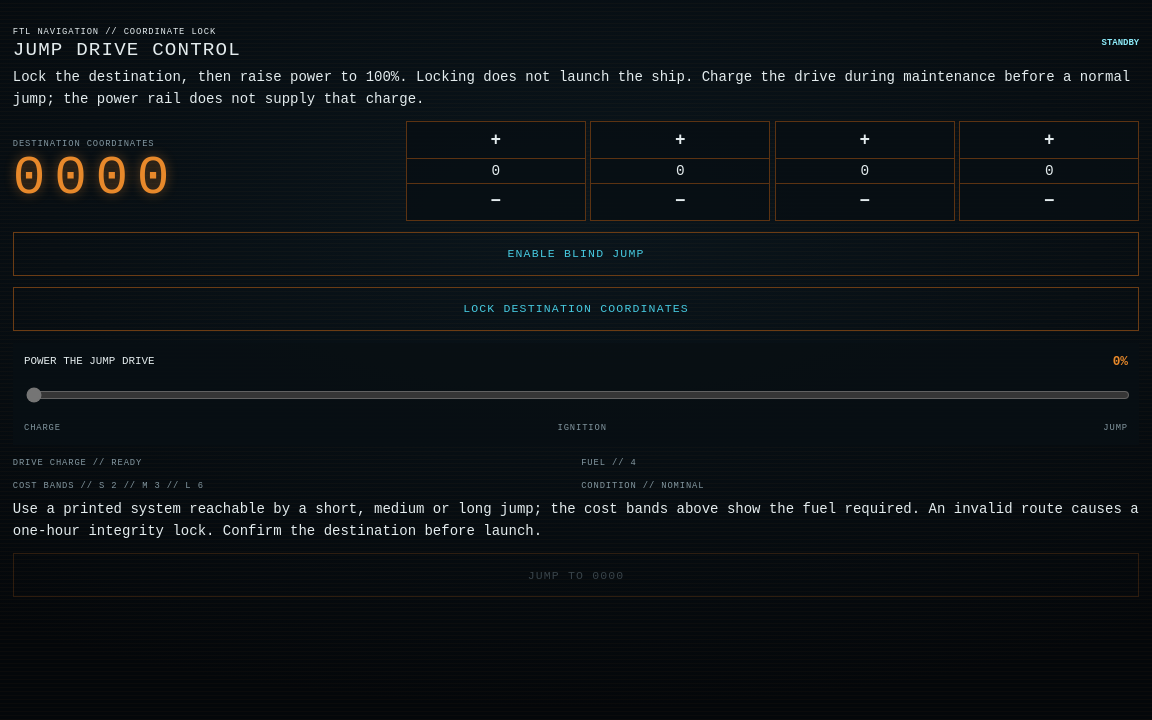
submits blind travel without a candidate and retries the same request until the server reveals arrival
The width and height of the screenshot is (1152, 720).
Step 1. Click the button "Enable blind jump" → (576, 254), box [13,232,1139,276]
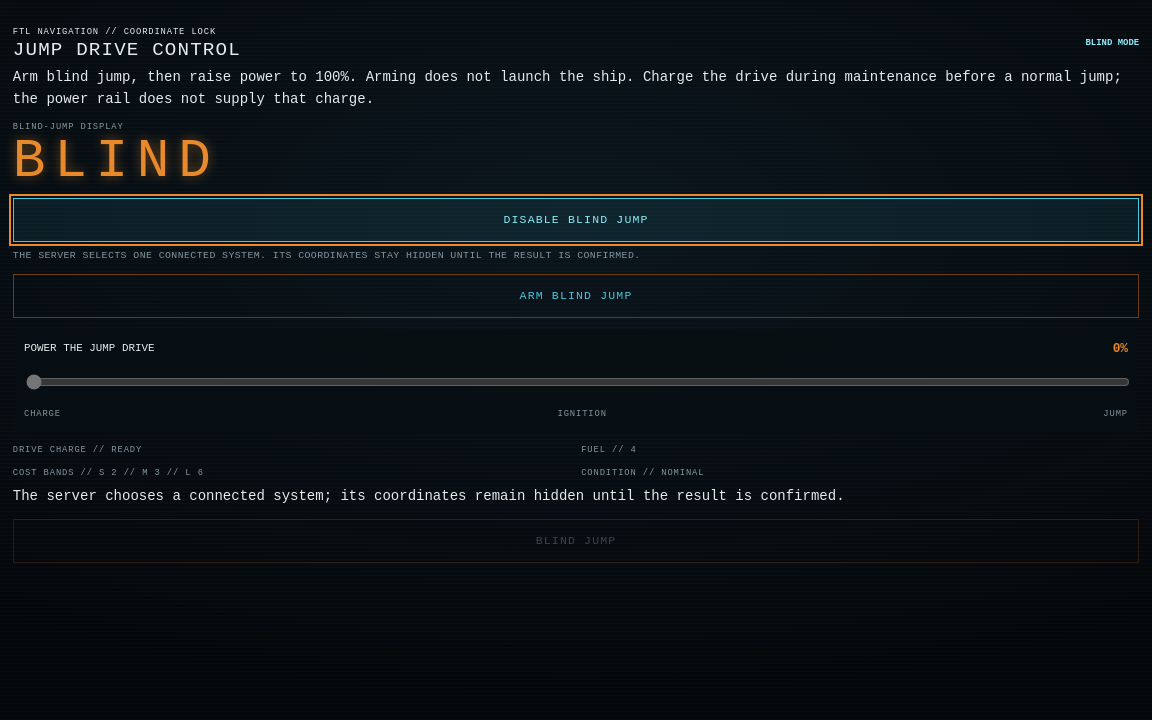
Now the element named "Blind destination hidden until server resolution" reads "BLIND", box [13,131,220,192]
Step 2. Click the button "Arm blind jump" → (576, 296), box [13,274,1139,318]
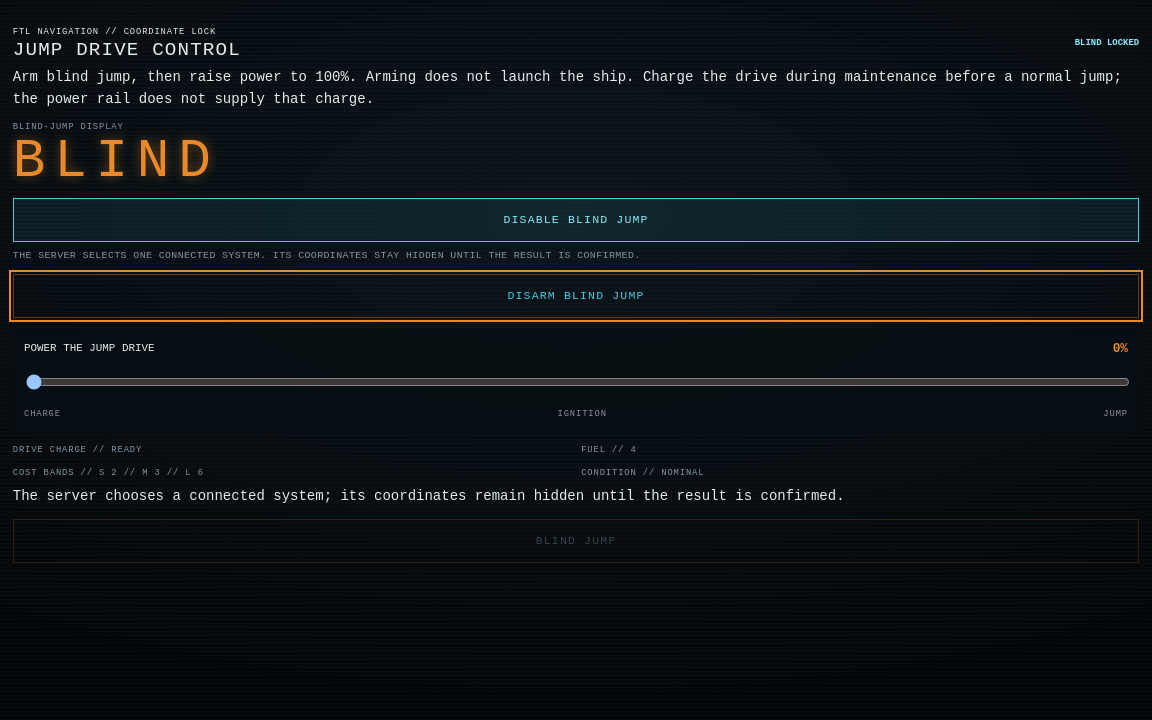
Step 3. Set the slider named "jump drive power" to "100" → (1122, 382), box [26,364,1130,400]
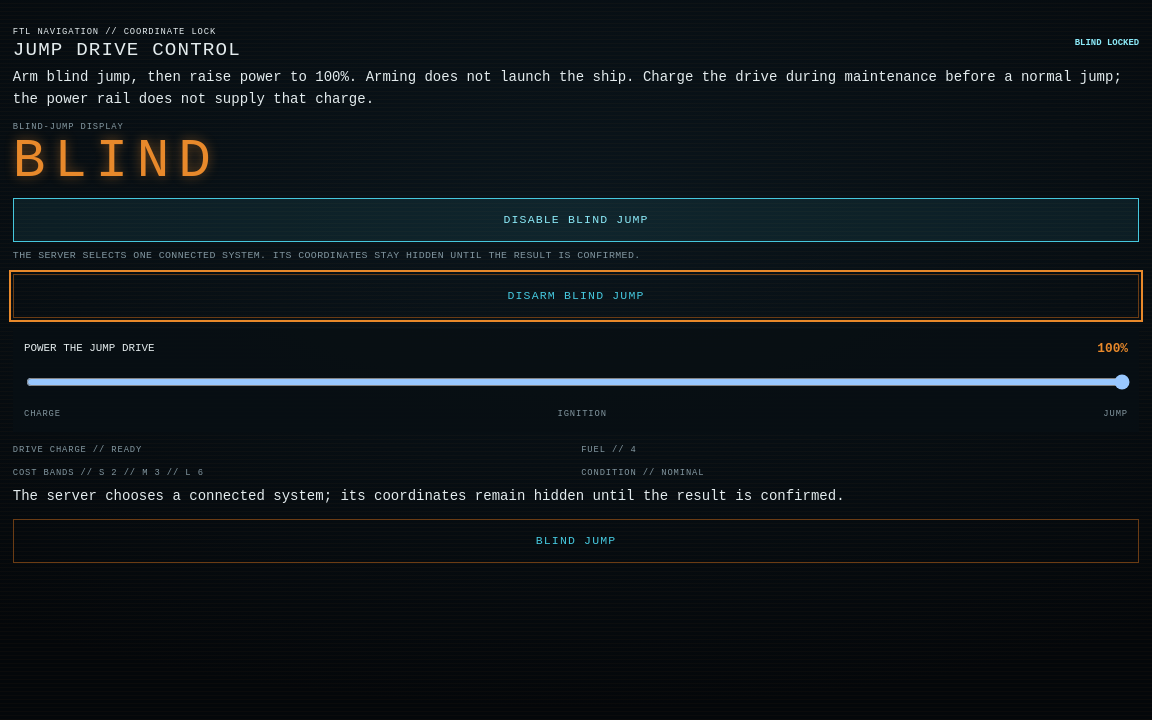
Step 4. Click the button "Blind jump" → (576, 541), box [13,519,1139,563]
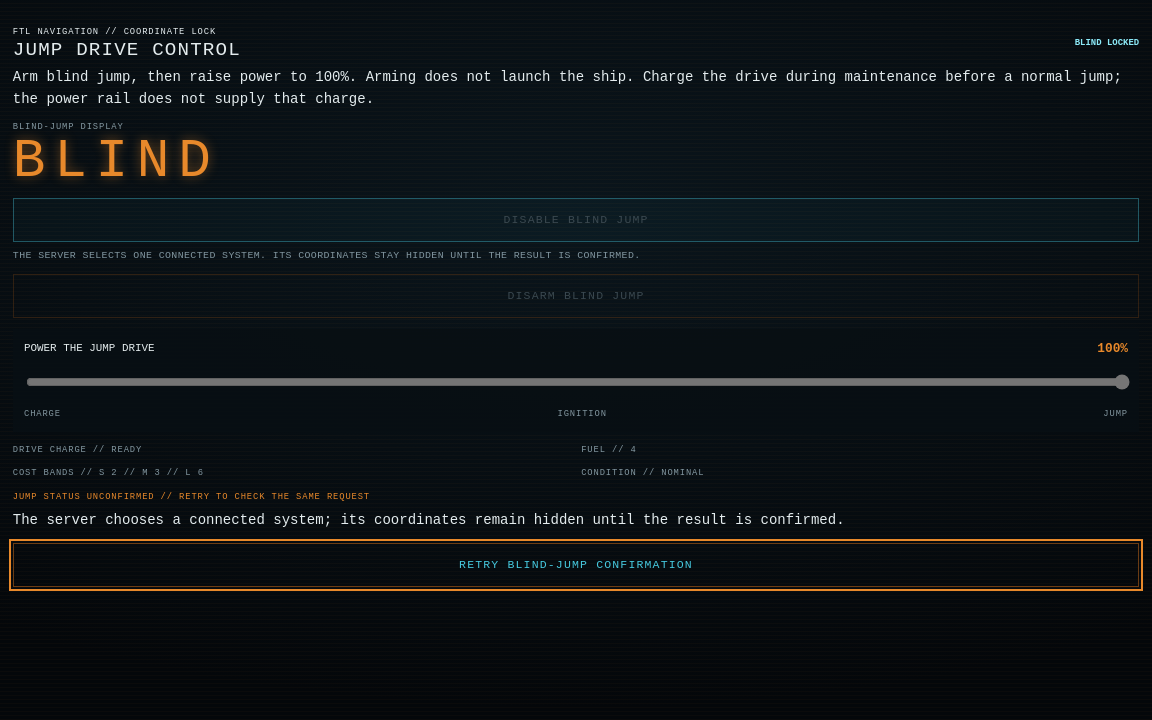
Now the button "Retry blind-jump confirmation" is enabled
Step 5. Click the button "Retry blind-jump confirmation" → (576, 565), box [13,543,1139,587]
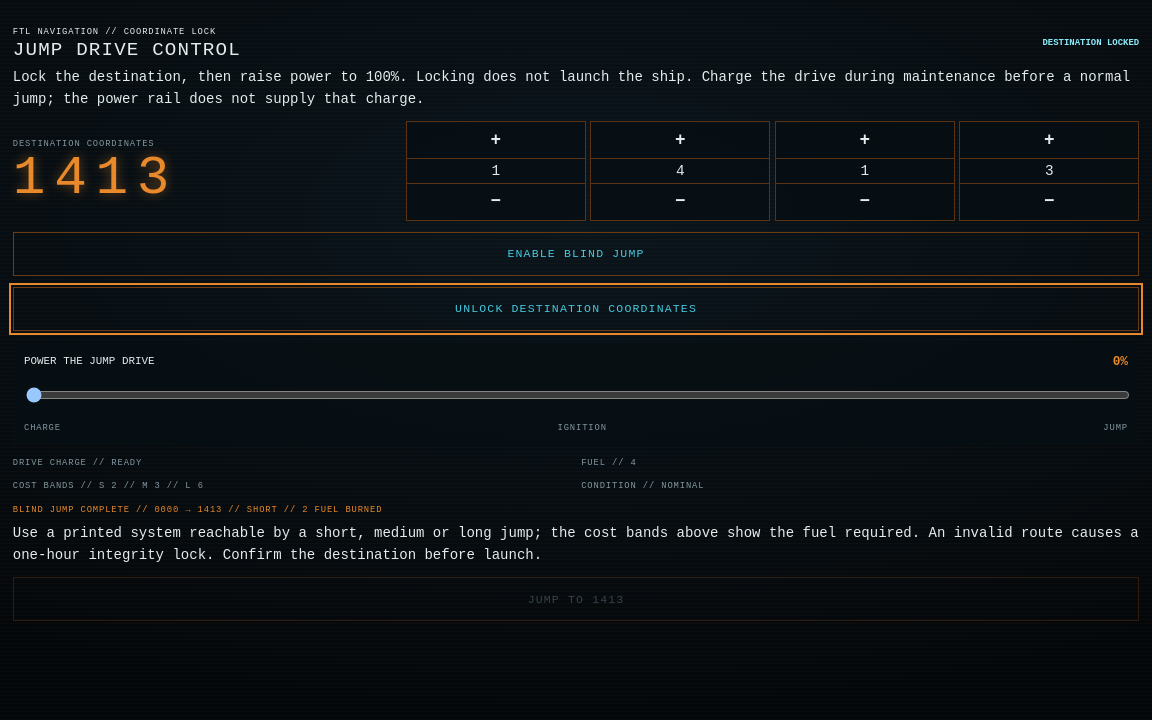
Now the text "BLIND JUMP COMPLETE // 0000 → 1413 // SHORT // 2 FUEL BURNED" is shown, box [13,505,382,515]
Now the text named "Locked destination coordinates" reads "1413", box [13,148,178,209]
